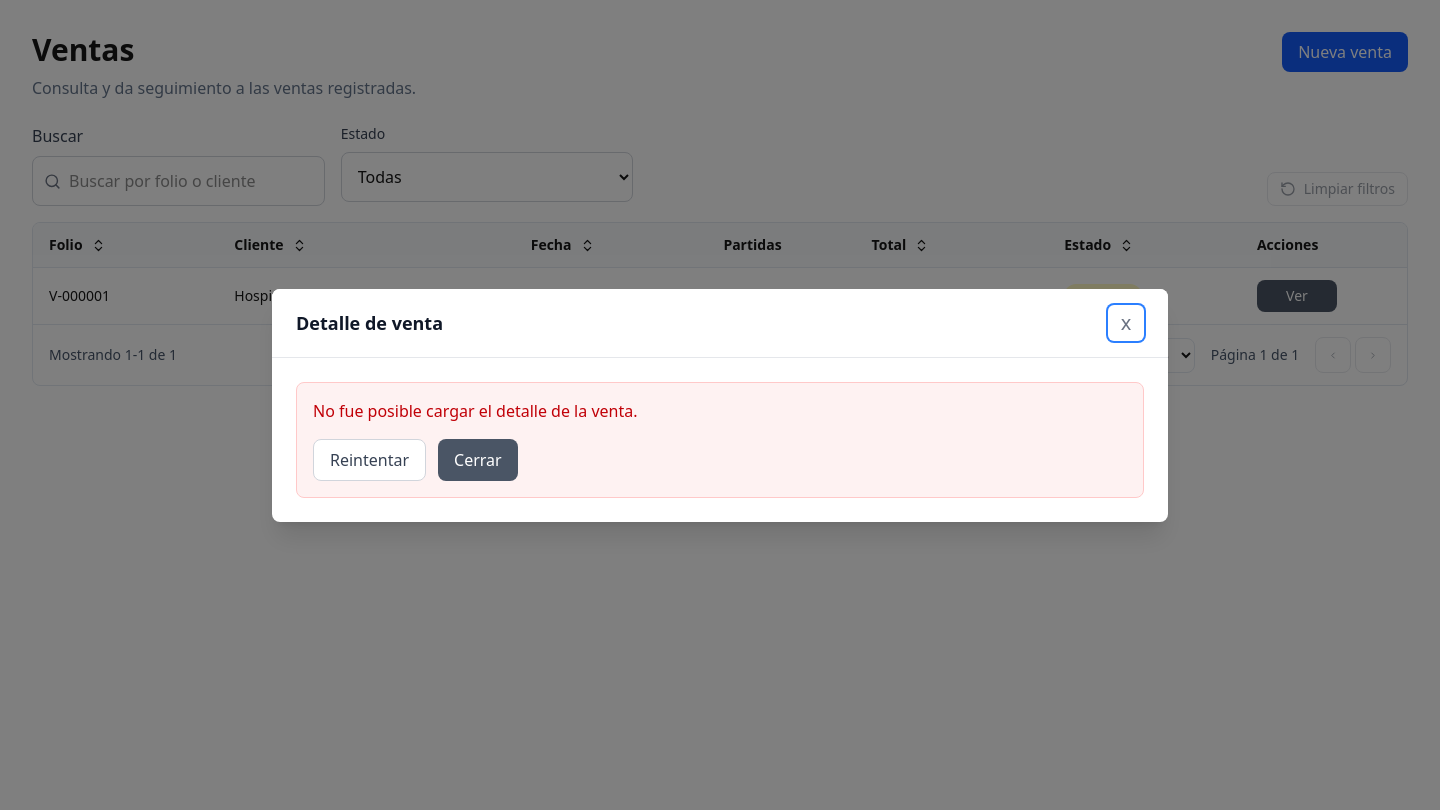
Scenario: SalesPage › muestra el error de un saleId inválido y permite volver a la lista
Expected: the text "No fue posible cargar el detalle de la venta." is shown, [313,400,638,422]
Expected: the text "V-000001" is shown, [33,268,218,324]
What coordinates should you click on to do the following:
click the button "Cerrar"
I would click on:
 (478, 460)
Its box is [438,438,518,480].
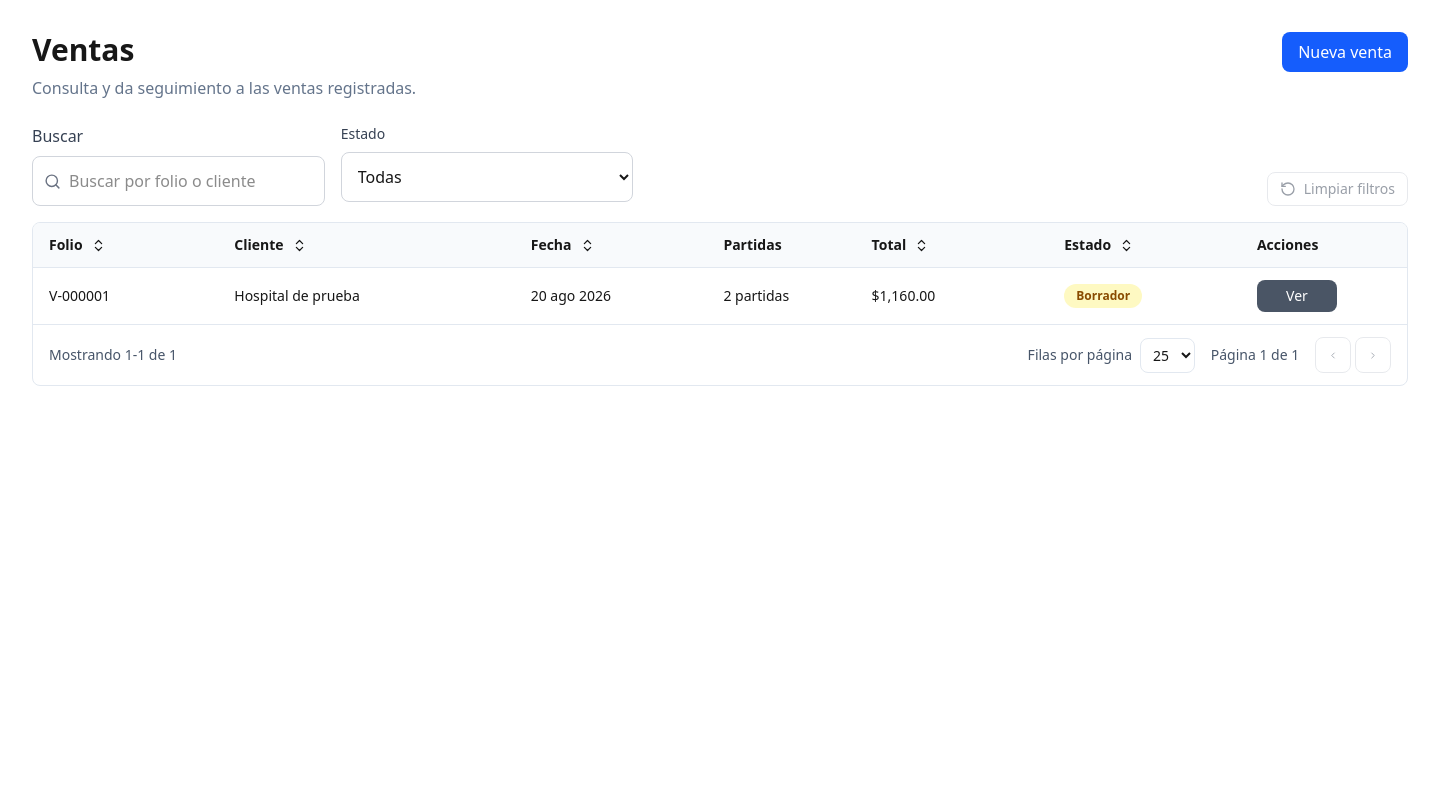
Expected: the text "V-000001" is shown, [33,268,218,324]
Result: the text "No fue posible cargar el detalle de la venta." is gone
